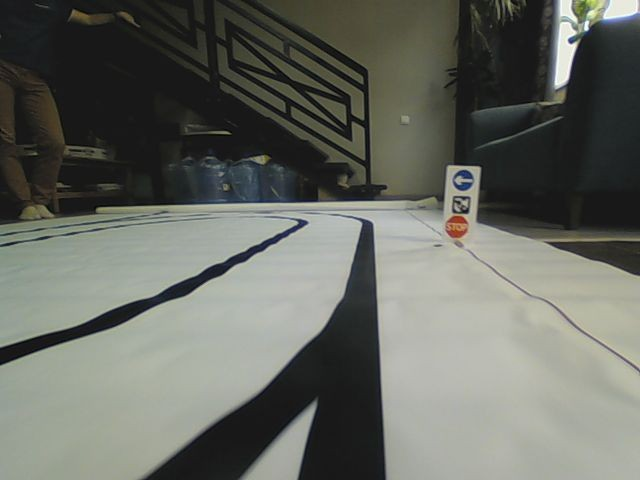Stop: (444, 215, 470, 240)
